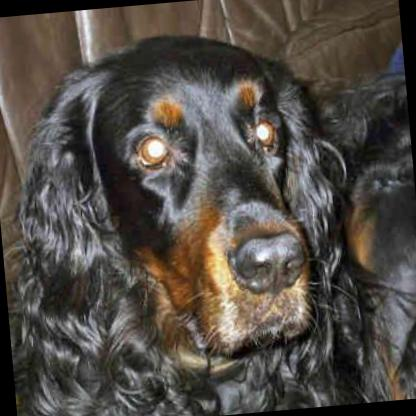Gordon_setter: (0, 16, 399, 416)
